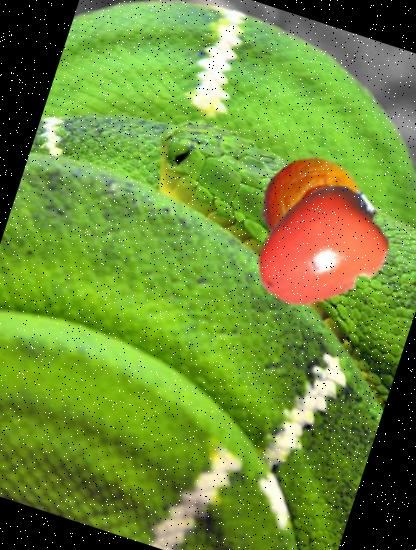Kaki: (235, 164, 406, 335)
Mandarine: (248, 140, 376, 269)
